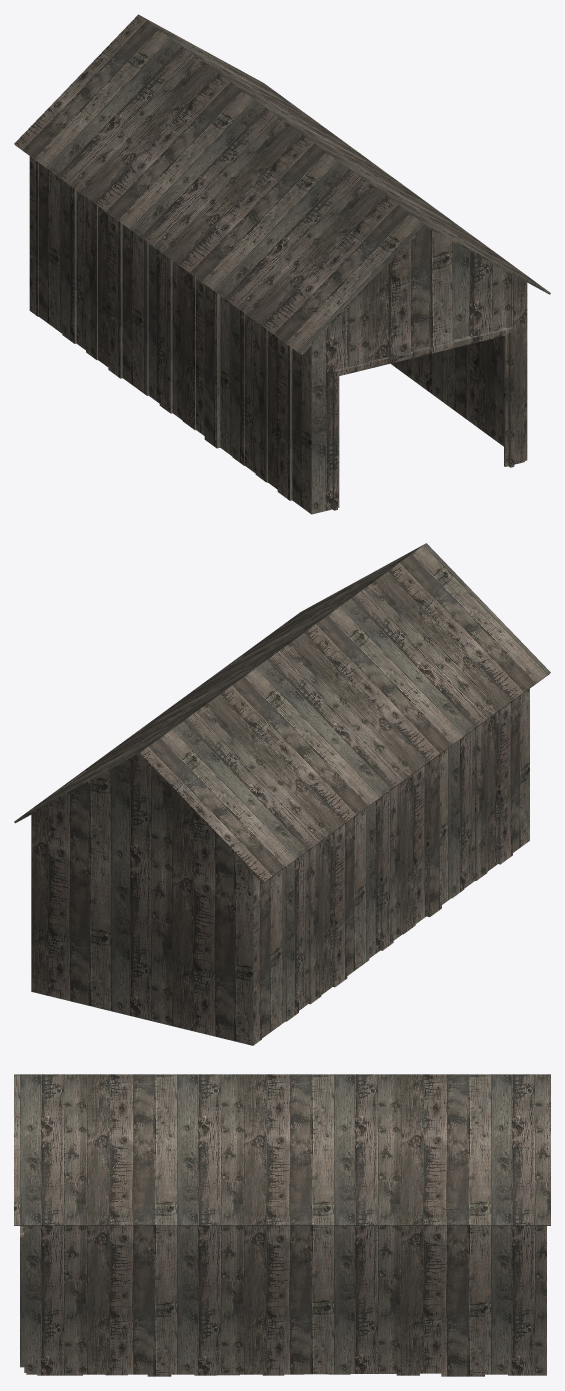
Rendered from House 2 ok.fbx.
3 renders of one model, top to bottom at view 1: azimuth 30°, elevation 25°; view 2: azimuth 150°, elevation 25°; view 3: azimuth 270°, elevation 25°, orthographic. The views are drawn at different scales.
Visible parts, largest first — view 1: Model; view 2: Model; view 3: Model.
Boxes of the visible parts, x1,y1,x2,y2 form: Model: (14, 14, 550, 514); Model: (14, 543, 550, 1045); Model: (14, 1074, 550, 1376).
Bounding box in the file's own units: 41.41 × 42.29 × 82.13.
